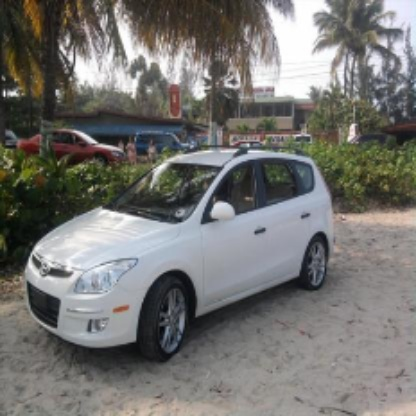Vehicle: (23, 143, 336, 352)
